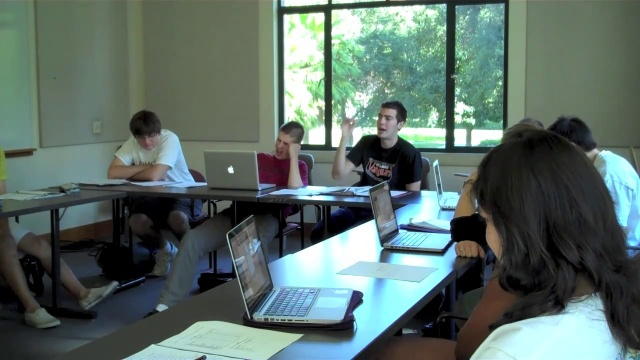person: (444, 128, 632, 359), (102, 104, 205, 275), (549, 95, 638, 277), (331, 100, 425, 195)
